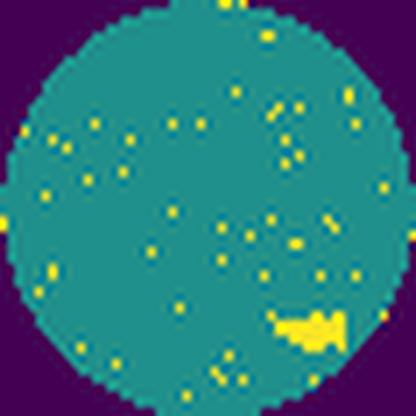Loc: (264, 309, 349, 356)
